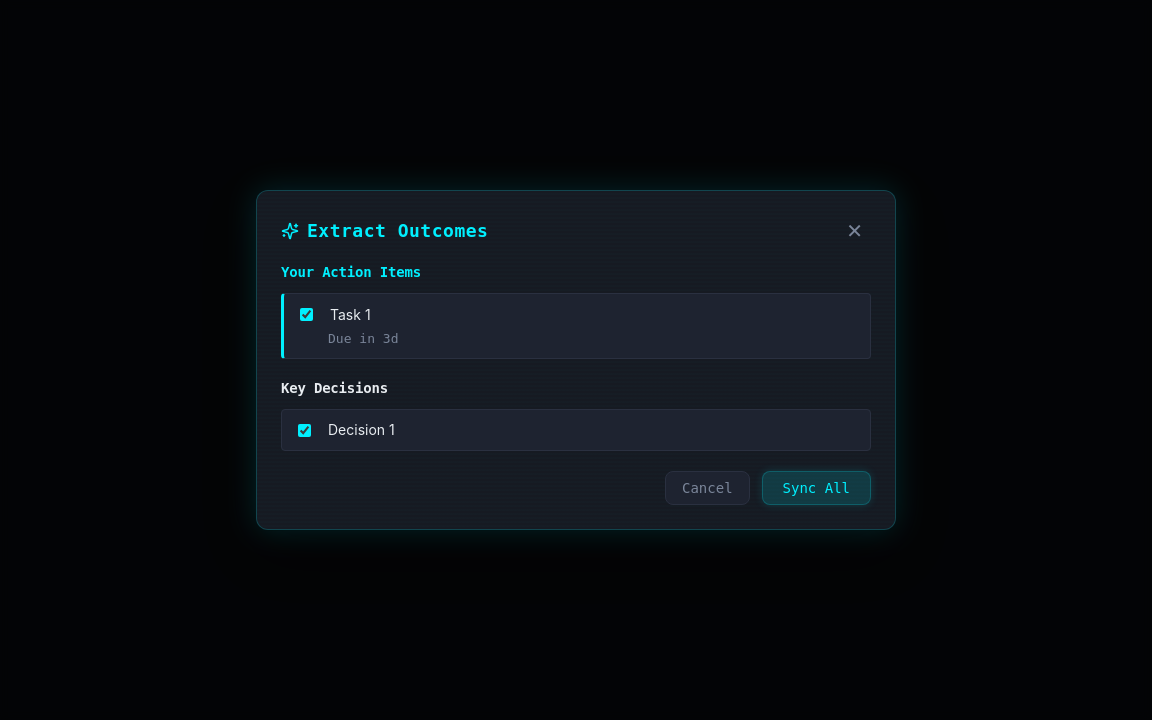
it: OutcomeExtractionModal › should show success message after applying
The image size is (1152, 720).
Click the button with test id "apply-outcomes-btn" at coordinates (816, 488), box [762,471,871,505]
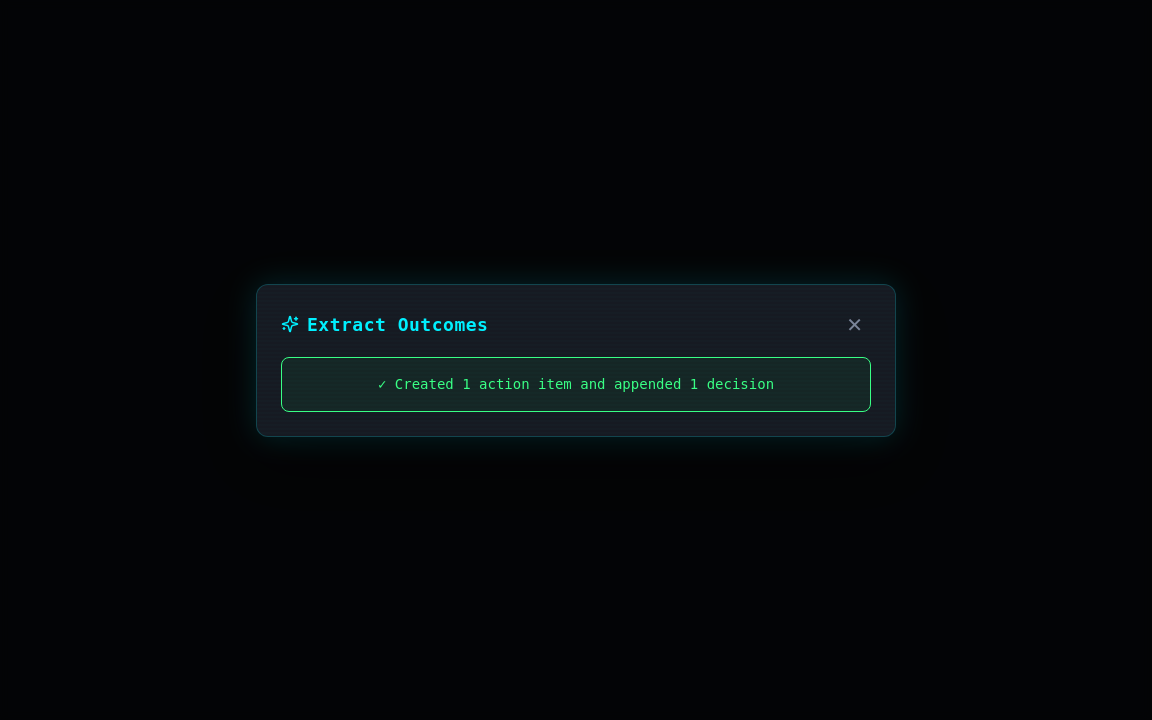
Expected: the text "✓ Created 1 action item and appended 1 decision" is shown, [281,356,871,412]
